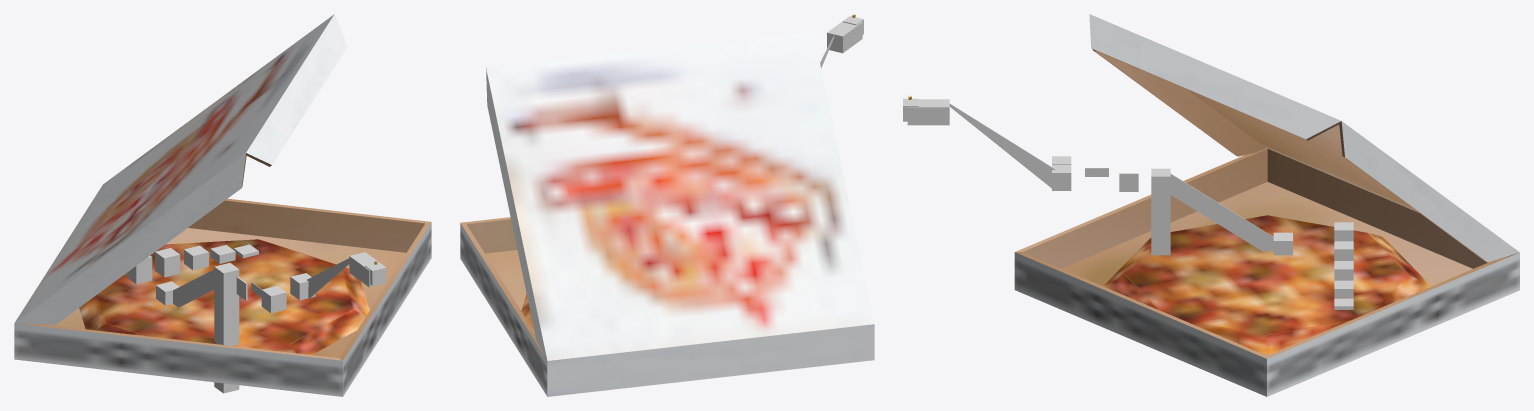
Rendered from level3.obj.
3 renders of one model, left to right at view 1: azimuth 30°, elevation 25°; view 2: azimuth 150°, elevation 25°; view 3: azimuth 270°, elevation 25°, orthographic. The views are drawn at different scales.
Parts seen in each view (by area): view 1: Box_Pizza.003, Box_Pizza.019; view 2: Box_Pizza.003, Box_Pizza.019; view 3: Box_Pizza.003, Box_Pizza.019.
Boxes of the visible parts, <box> form: Box_Pizza.003: <box>14,14,431,396</box>; Box_Pizza.019: <box>127,244,386,393</box>; Box_Pizza.003: <box>460,31,874,396</box>; Box_Pizza.019: <box>820,16,863,68</box>; Box_Pizza.003: <box>1014,14,1519,396</box>; Box_Pizza.019: <box>903,98,1353,309</box>.
Size of the model in its own units: 44.96 by 27.2 by 54.89.
Materials: 3 (3 with a texture image).
